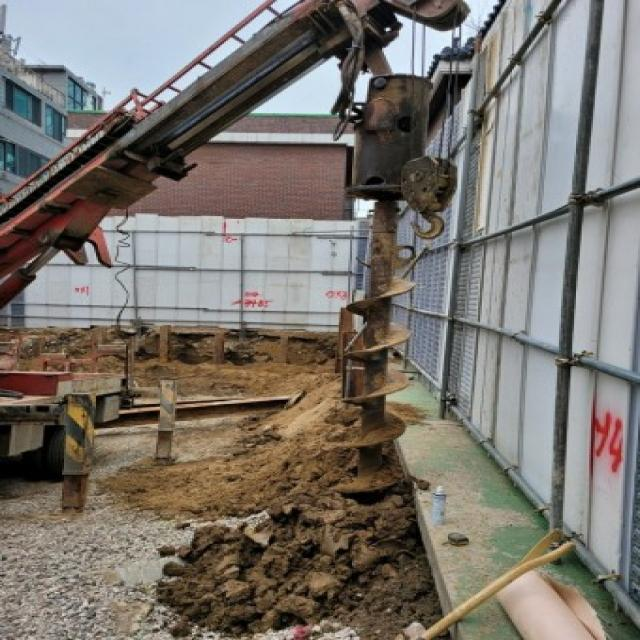pile: (336, 200, 416, 504)
